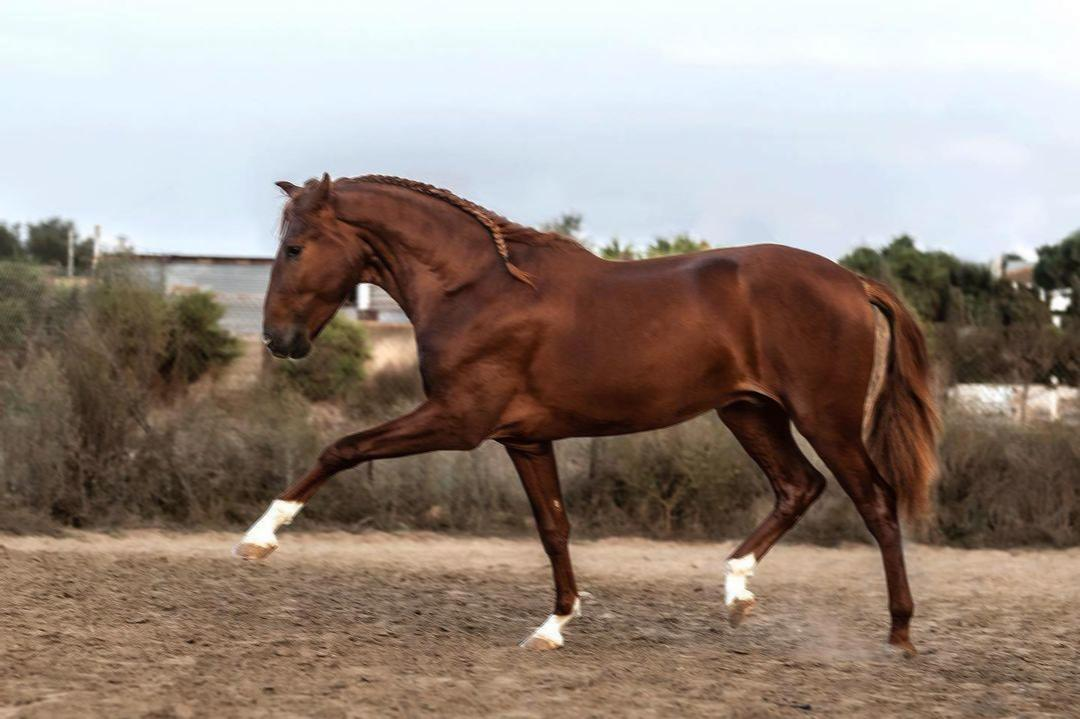horse: (229, 170, 945, 658)
